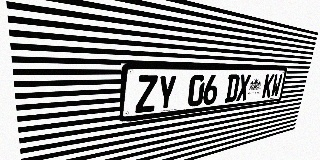0: (187, 75, 206, 107)
6: (202, 75, 220, 105)
D: (224, 74, 240, 103)
K: (262, 74, 275, 98)
W: (270, 74, 283, 97)
X: (236, 74, 251, 101)
Y: (156, 75, 177, 111)
Z: (135, 75, 158, 113)
